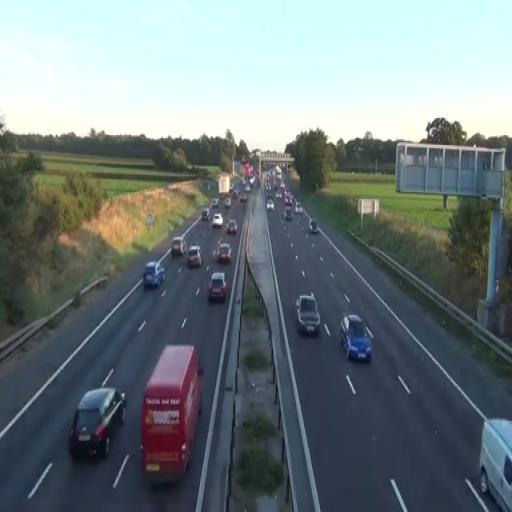Bus: (139, 344, 204, 486)
Car: (68, 387, 126, 462), (480, 418, 512, 512), (339, 314, 373, 364), (294, 293, 321, 336), (143, 260, 165, 289), (208, 272, 228, 303), (187, 244, 202, 268), (216, 242, 232, 264), (172, 236, 186, 258), (212, 213, 223, 228), (228, 219, 238, 235)
